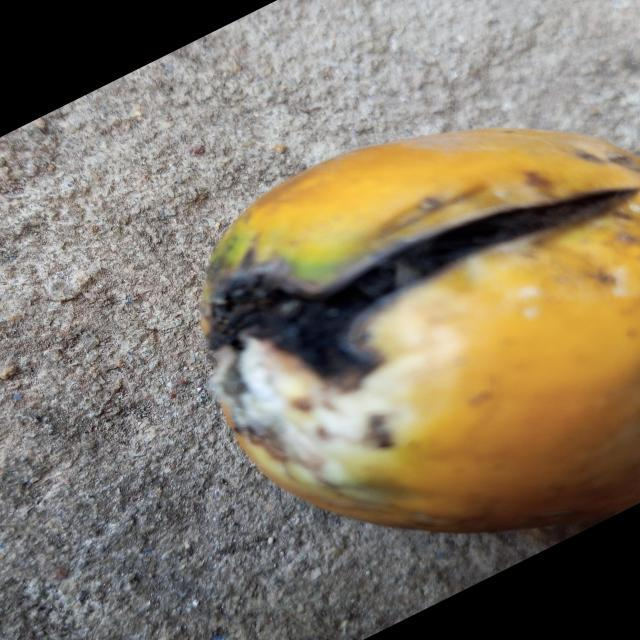damaged: (201, 129, 640, 532)
